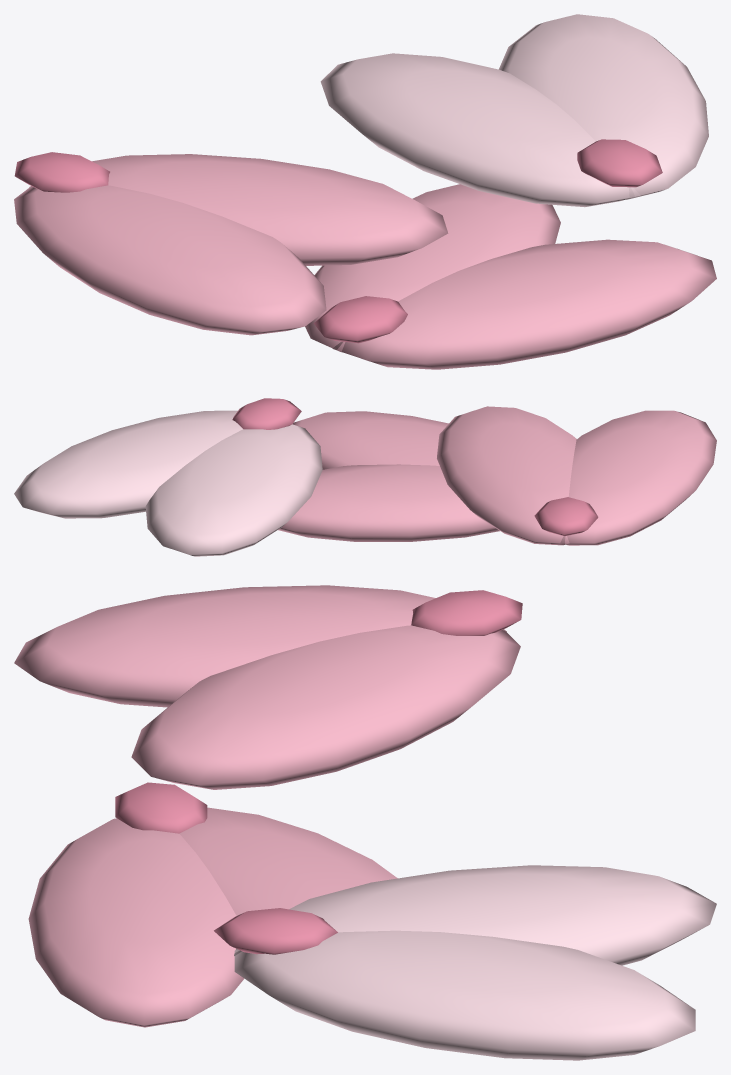
Rendered from event-petal.glb.
The picture shows the model from 3 angles, top to bottom: view 1: azimuth 30°, elevation 25°; view 2: azimuth 150°, elevation 25°; view 3: azimuth 270°, elevation 25°; orthographic projection. The views are drawn at different scales.
Parts seen in each view (by area): view 1: petal; view 2: petal; view 3: petal.
Part boxes in pixels (x1=…): petal: x1=14, y1=14, x2=716, y2=369; petal: x1=14, y1=398, x2=716, y2=556; petal: x1=14, y1=585, x2=716, y2=1060.
Bounding box in the file's own units: 0.2394 × 0.047 × 0.1748.
